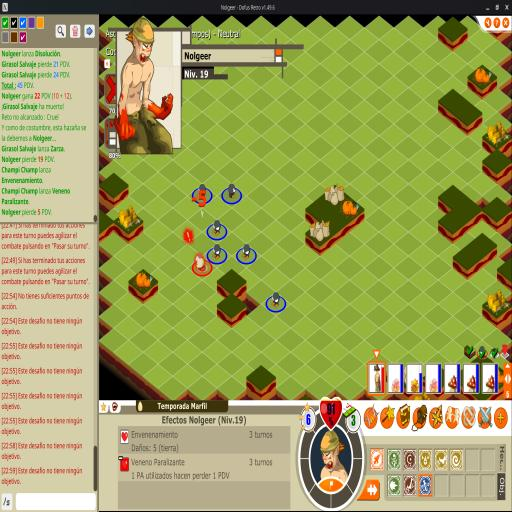Enemigos: (270, 292, 281, 309), (228, 182, 238, 200), (212, 219, 222, 237), (242, 243, 252, 261), (198, 183, 208, 200), (212, 244, 222, 261)
Personaje: (195, 254, 207, 272)
